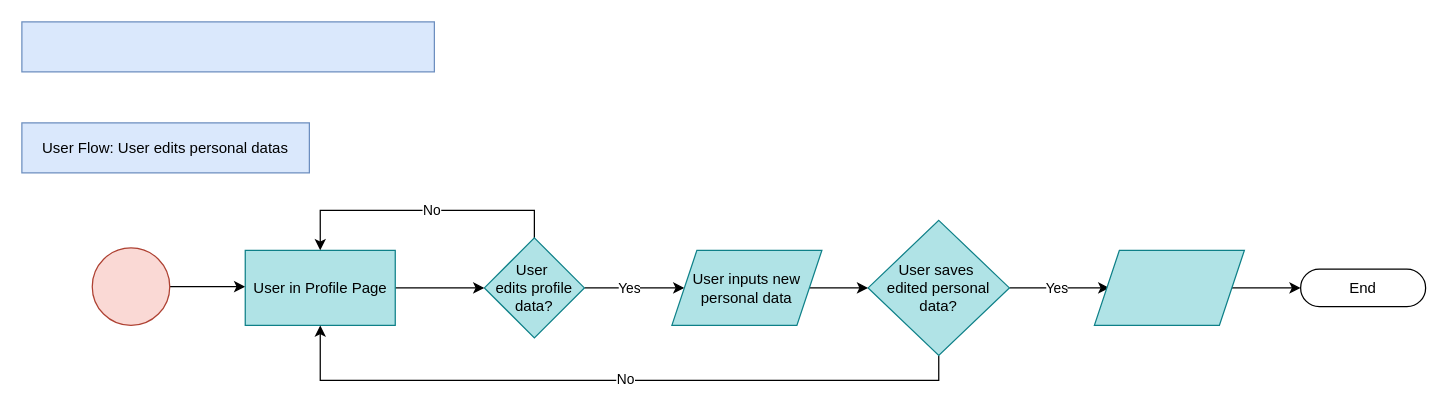
Image size: 1448x413. Some labels were removed from this diagram. Each missing label, with the centre of its shape:
"A1" belongs at (x=130, y=286).
"User Flow in glance from Profile Page" belongs at (x=227, y=46).
"User saves new personal data" belongs at (x=1168, y=287).
